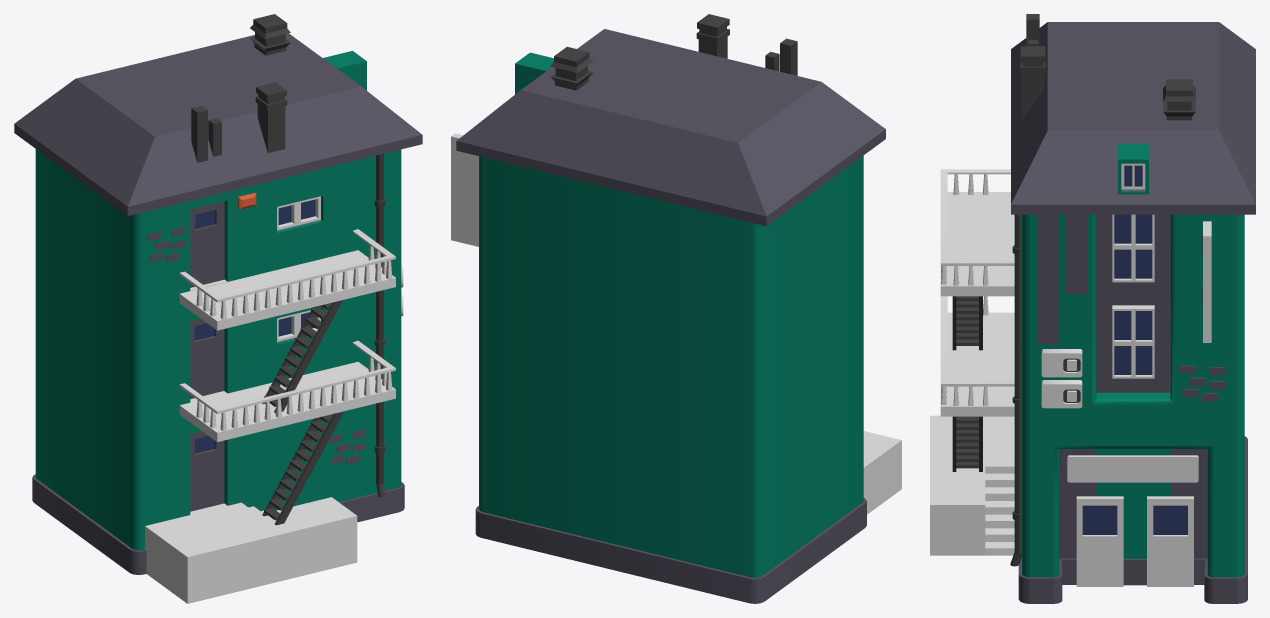
File: edificio3.fbx
The picture shows the model from 3 angles, left to right: view 1: azimuth 30°, elevation 25°; view 2: azimuth 150°, elevation 25°; view 3: azimuth 270°, elevation 25°; orthographic projection. The views are drawn at different scales.
Parts seen in each view (by area): view 1: Cube, Cube.008, Cube.001, Cube.002, Cube.023, Cube.022, Cylinder, Plane, Cube.010, Cube.011, Cube.005, Cube.006 (+2 smaller); view 2: Cube, Cube.015, Cube.008, Cube.011, Cube.010, Cube.005, Cube.006; view 3: Cube, Cube.001, Cube.008, Cube.002, Cube.003, Cube.004, Cube.078, Plane.001, Plane.002, Plane.003, Cylinder, Cube.009 (+10 smaller).
Part boxes in pixels (<box>): Cube: <box>14,33,422,574</box>; Cube.008: <box>145,497,357,603</box>; Cube.001: <box>179,229,395,330</box>; Cube.002: <box>179,340,395,442</box>; Cube.023: <box>262,411,343,525</box>; Cube.022: <box>262,300,342,413</box>; Cylinder: <box>374,153,385,497</box>; Plane: <box>277,196,320,342</box>; Cube.010: <box>255,82,287,152</box>; Cube.011: <box>250,14,290,55</box>; Cube.005: <box>323,51,366,90</box>; Cube.006: <box>191,105,207,162</box>; Cube: <box>456,29,885,603</box>; Cube.015: <box>451,133,478,246</box>; Cube.008: <box>863,431,901,514</box>; Cube.011: <box>550,46,593,90</box>; Cube.010: <box>696,14,729,58</box>; Cube.005: <box>515,52,553,94</box>; Cube.006: <box>780,38,797,75</box>; Cube: <box>1011,22,1255,603</box>; Cube.001: <box>940,169,1014,296</box>; Cube.008: <box>930,415,1014,555</box>; Cube.002: <box>940,296,1014,416</box>; Cube.003: <box>1076,496,1123,586</box>; Cube.004: <box>1147,496,1193,586</box>; Cube.078: <box>1067,455,1198,482</box>; Plane.001: <box>1112,305,1154,378</box>; Plane.002: <box>1112,214,1154,282</box>; Plane.003: <box>1037,214,1058,344</box>; Cylinder: <box>1010,214,1021,566</box>; Cube.009: <box>985,460,1014,555</box>.
Size of the model in its own units: 359 by 482 by 293.
